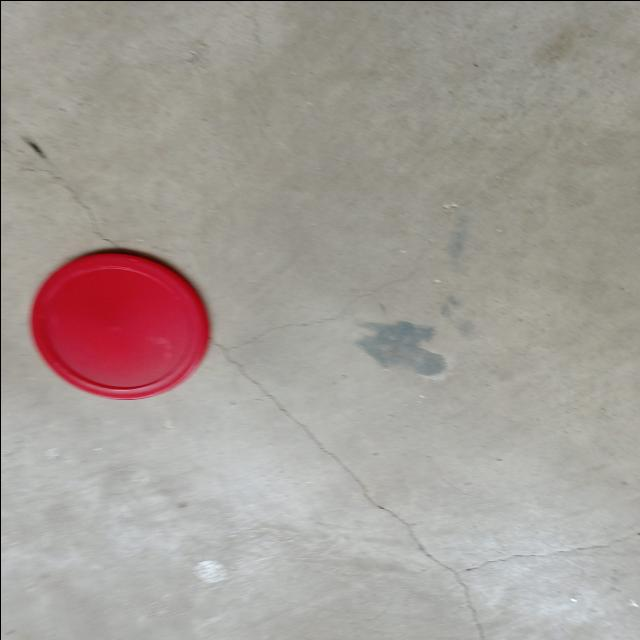chip: (24, 251, 210, 400)
